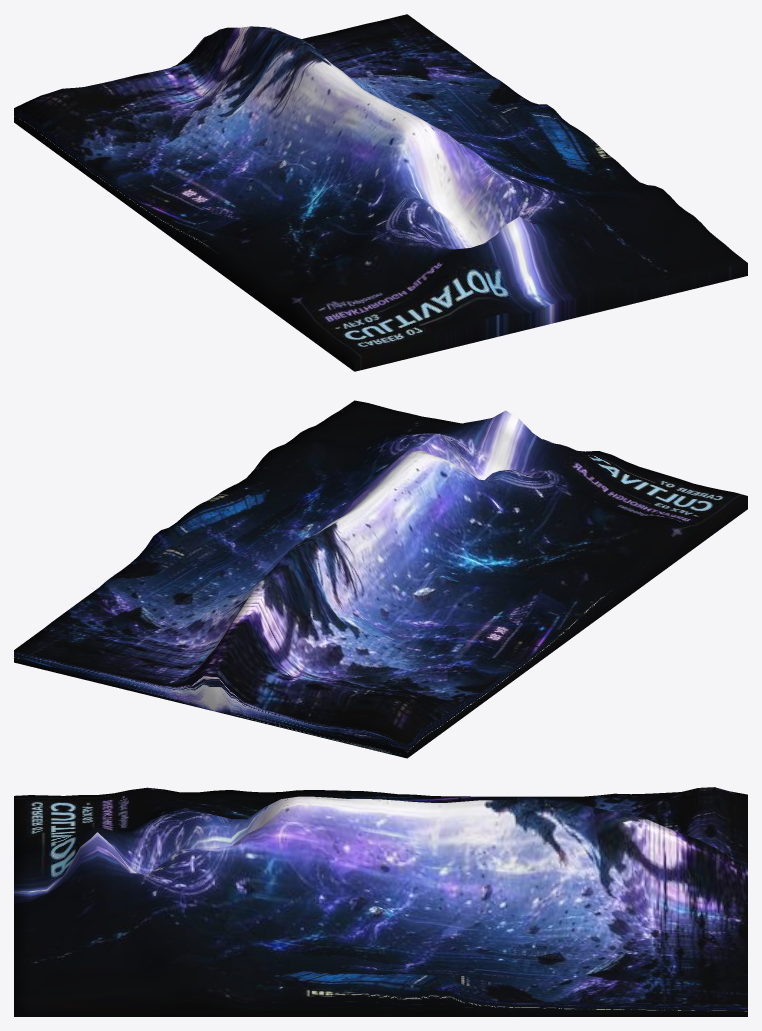
The model's file is CAREER_07_VFX_03_Breakthrough.glb.
The picture shows the model from 3 angles, top to bottom: view 1: azimuth 30°, elevation 25°; view 2: azimuth 150°, elevation 25°; view 3: azimuth 270°, elevation 25°; orthographic projection. The views are drawn at different scales.
Parts seen in each view (by area): view 1: CAREER_07_VFX_03_Breakthrough; view 2: CAREER_07_VFX_03_Breakthrough; view 3: CAREER_07_VFX_03_Breakthrough.
Part boxes in pixels (box(x1,y1,x2,y2)): CAREER_07_VFX_03_Breakthrough: box(14, 14, 747, 371); CAREER_07_VFX_03_Breakthrough: box(14, 400, 747, 758); CAREER_07_VFX_03_Breakthrough: box(14, 787, 747, 1016).
Size of the model in its own units: 2 by 0.51 by 3.
1 material, 1 textured.
